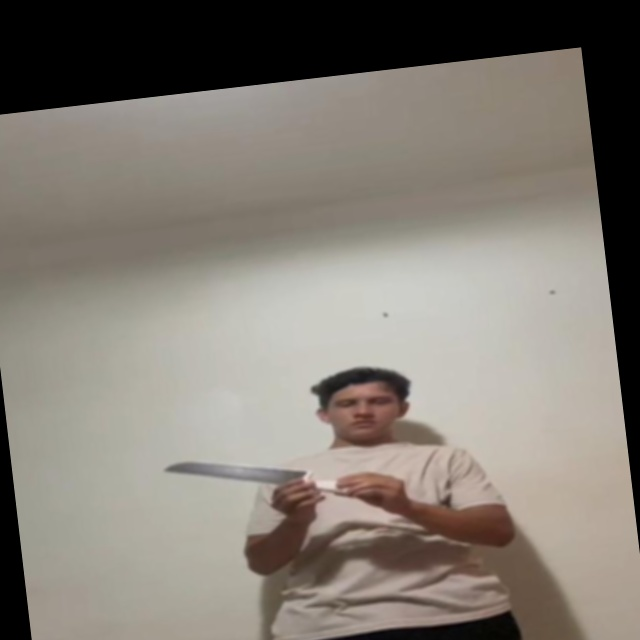Sharp-Object: (155, 446, 309, 494)
